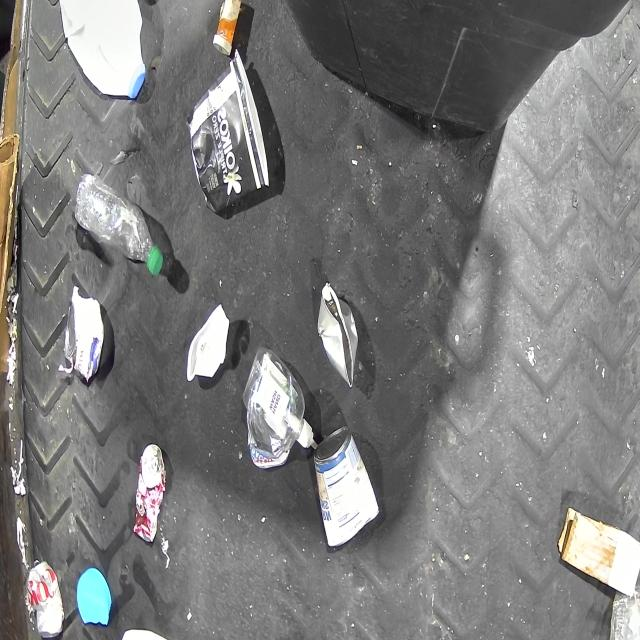can: (312, 428, 380, 550), (316, 280, 358, 388), (22, 556, 64, 638), (132, 443, 166, 543), (65, 293, 104, 378)
milk_jug: (60, 0, 146, 97)
plastic_bottle: (75, 172, 163, 276)
